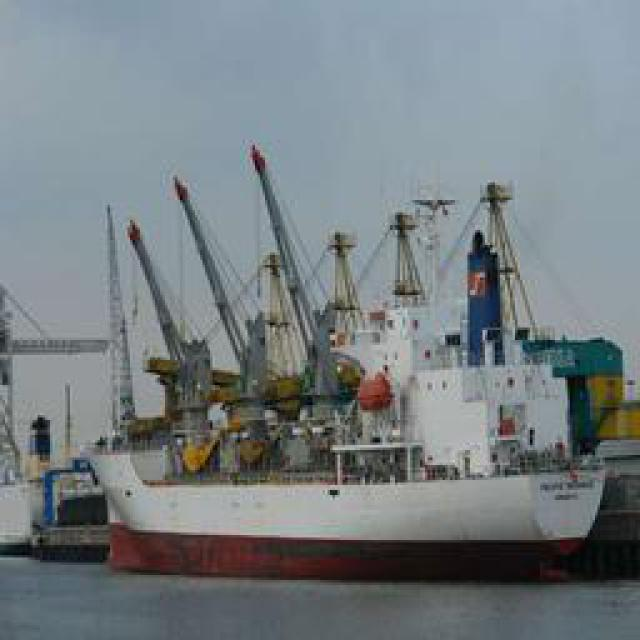Ship: (80, 137, 630, 567)
